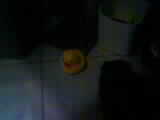duck: (56, 39, 90, 81)
